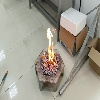fire: (42, 27, 56, 69)
